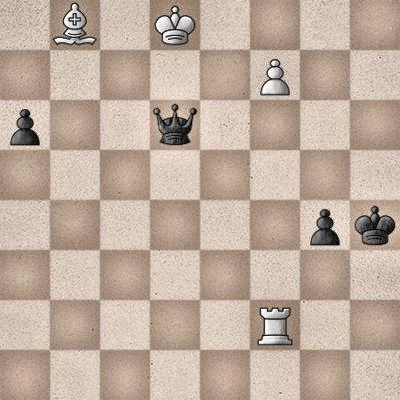black-king: (350, 200, 400, 250)
black-pawn: (0, 100, 50, 150), (300, 200, 350, 250)
black-queen: (150, 100, 200, 150)
white-bishop: (50, 0, 100, 50)
white-king: (150, 0, 200, 50)
white-pawn: (250, 50, 300, 100)
white-rook: (250, 300, 300, 350)
